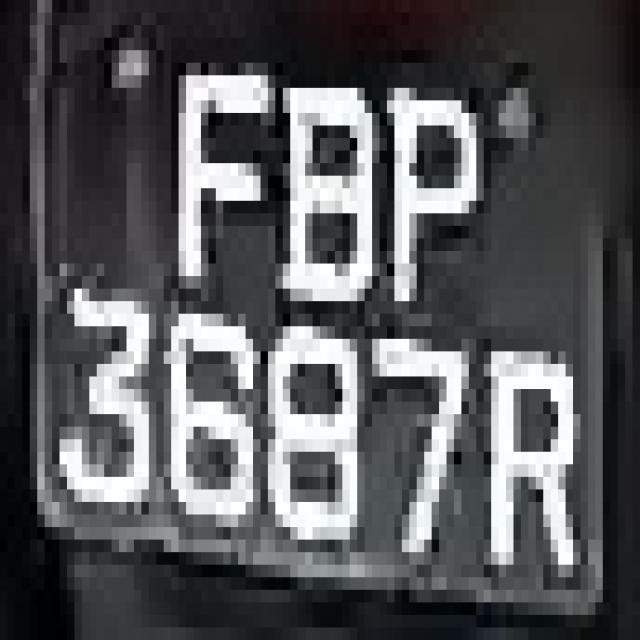3: (30, 226, 156, 527)
6: (156, 264, 268, 540)
7: (350, 289, 476, 602)
8: (260, 264, 364, 577)
B: (268, 76, 387, 352)
F: (142, 12, 276, 314)
P: (372, 50, 484, 364)
R: (491, 276, 588, 602)
